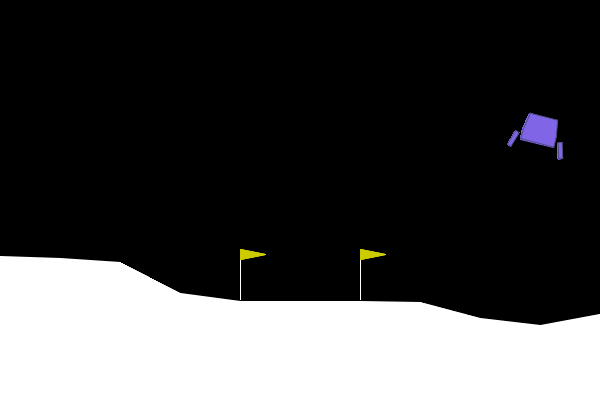lander: (505, 108, 573, 161)
